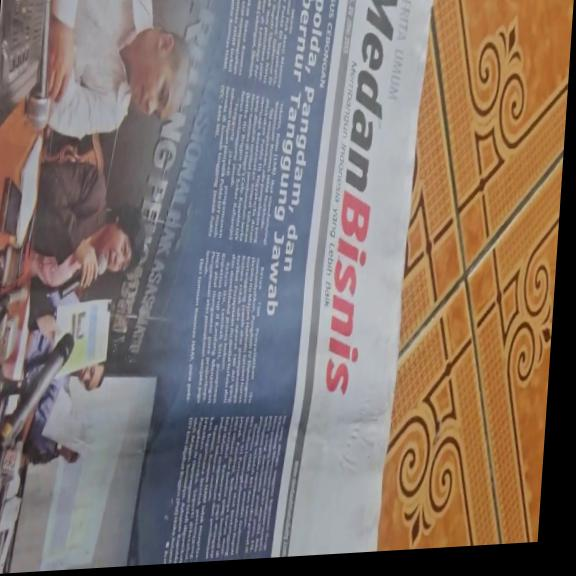Kertas: (121, 0, 435, 562)
